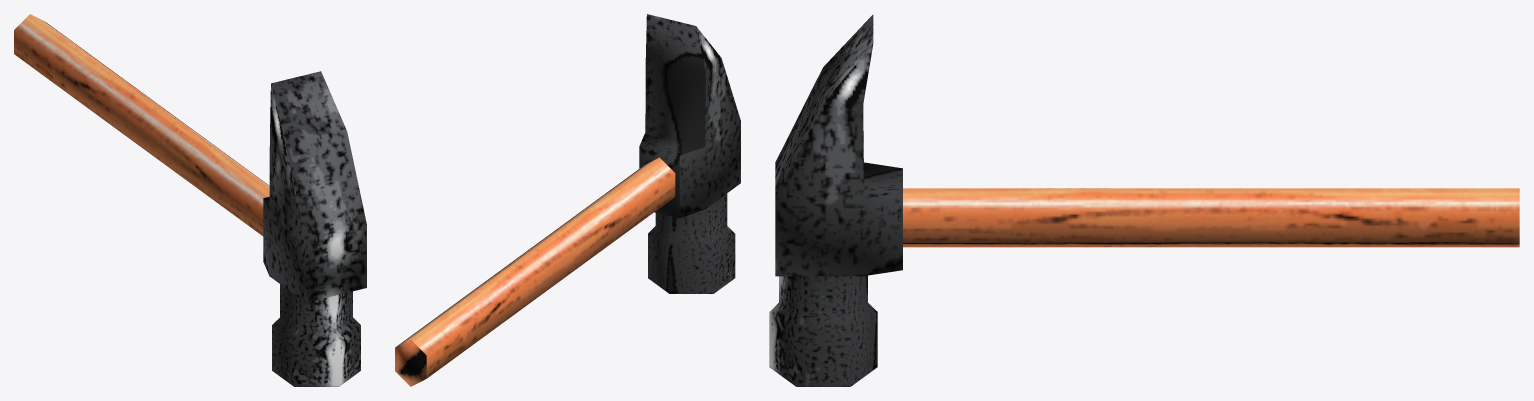
The model's file is Hammer.fbx.
3 renders of one model, left to right at view 1: azimuth 30°, elevation 25°; view 2: azimuth 150°, elevation 25°; view 3: azimuth 270°, elevation 25°, orthographic. The views are drawn at different scales.
Visible parts, largest first — view 1: polySurface363; view 2: polySurface363; view 3: polySurface363.
Part boxes in pixels (left/top/right/bottom): polySurface363: left=14, top=14, right=366, bottom=386; polySurface363: left=395, top=14, right=740, bottom=386; polySurface363: left=769, top=14, right=1519, bottom=386.
Size of the model in its own units: 4.88 by 19.4 by 39.
